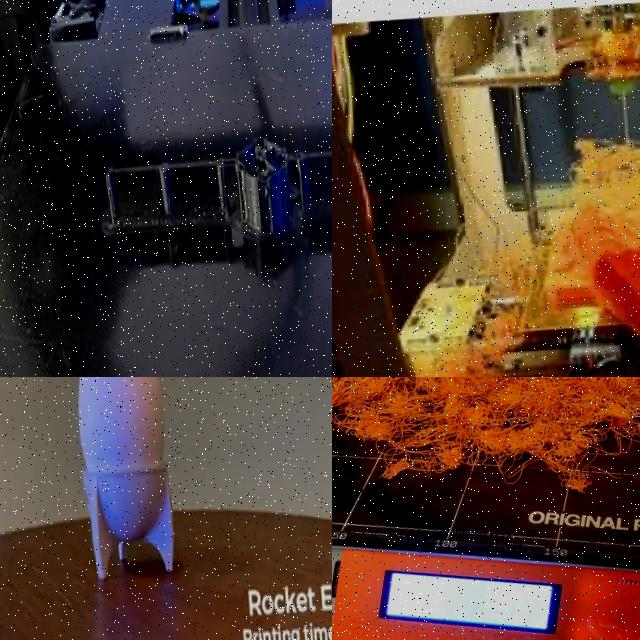spaghetti: (332, 377, 640, 490)
